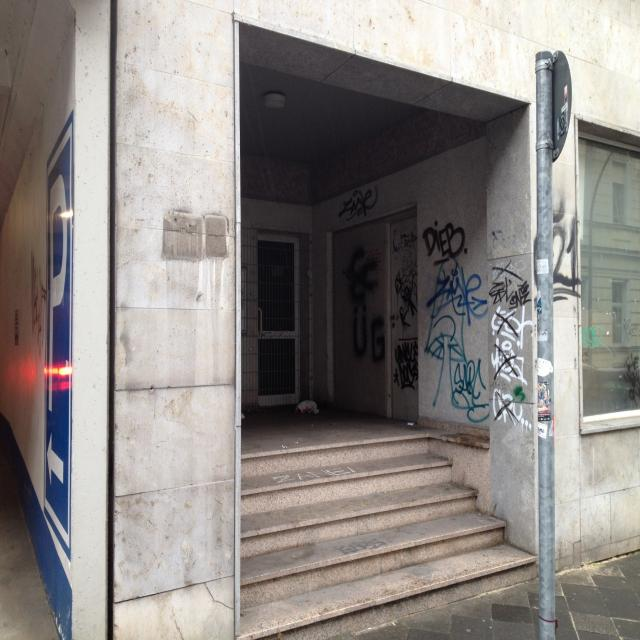AVOID: (240, 434, 536, 640)
